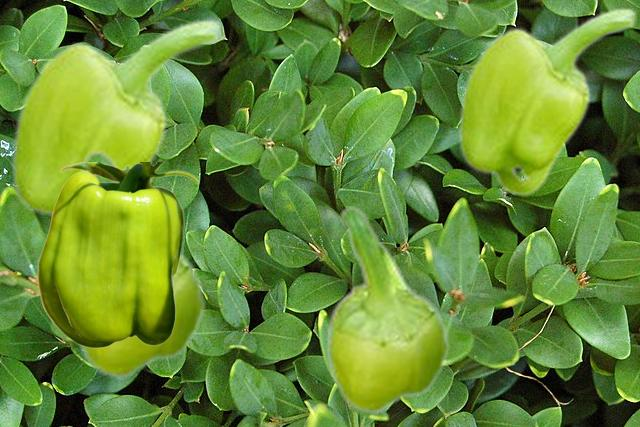bell_pepper: (10, 17, 222, 220), (457, 6, 637, 196), (72, 150, 205, 378), (37, 162, 198, 347), (325, 206, 449, 413)
